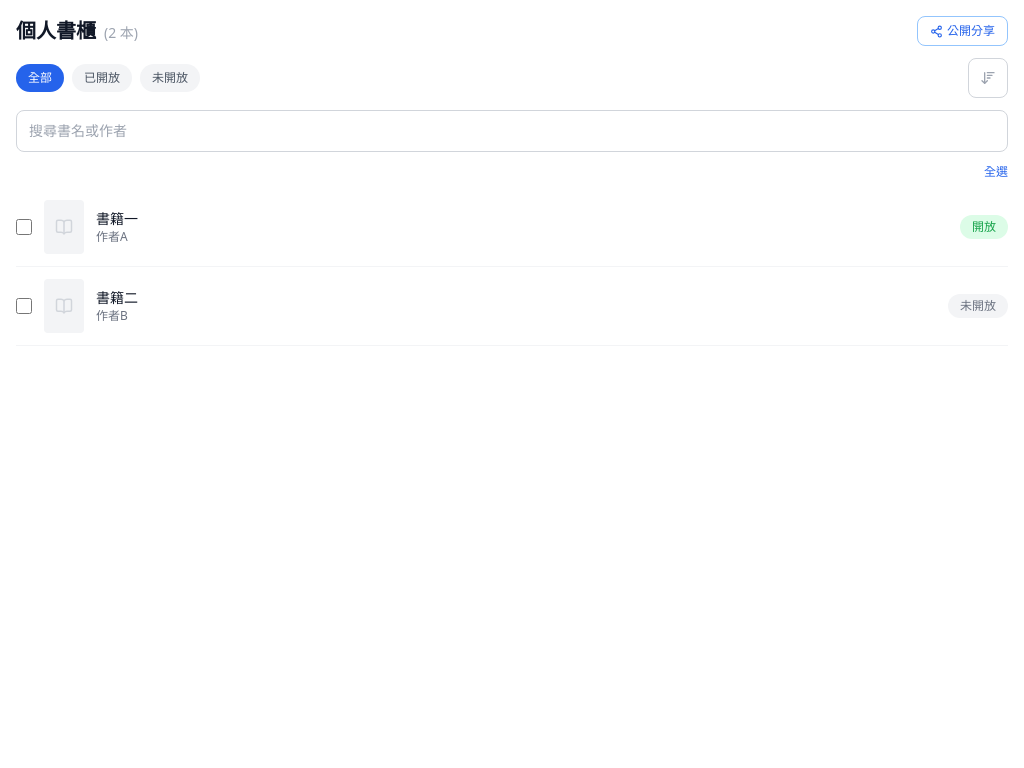
Test case: PersonalShelfPage › select all / deselect all toggles all visible books
The width and height of the screenshot is (1024, 768).
Expected: the text "書籍一" is shown, [96,209,138,229]
Click the button "全選" at (996, 172), box [984,164,1008,180]
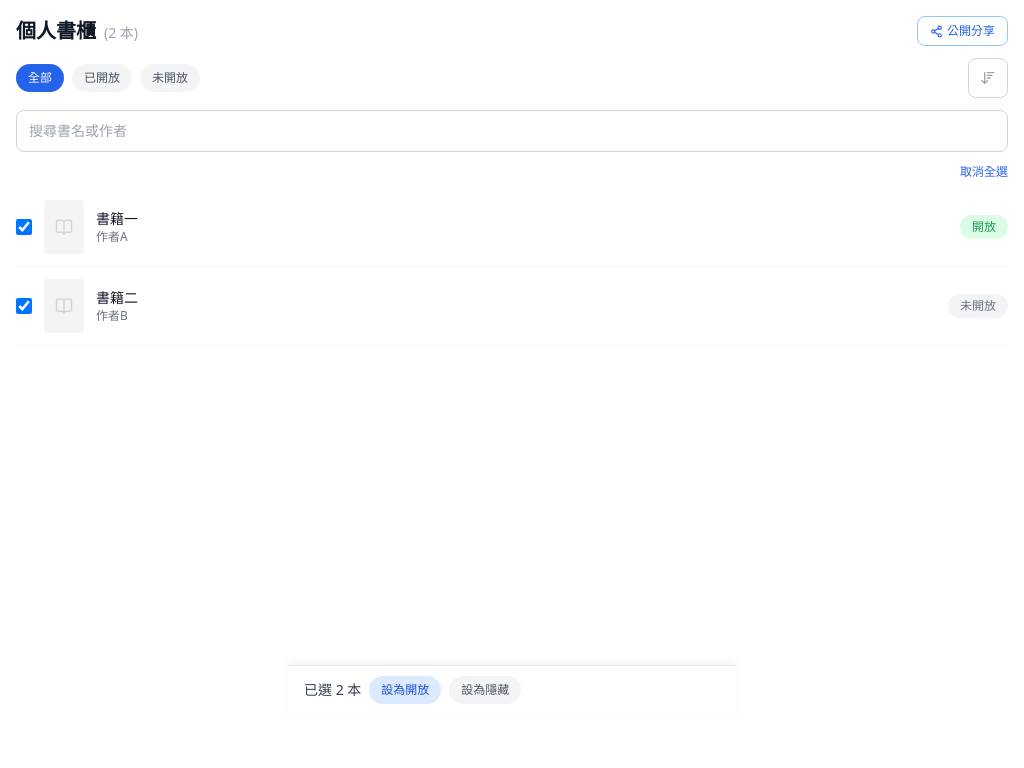
Result: the text "已選 2 本" is shown at [304,680,361,700]
Result: the button "取消全選" is shown
Click the button "取消全選" at (984, 172), box [960,164,1008,180]
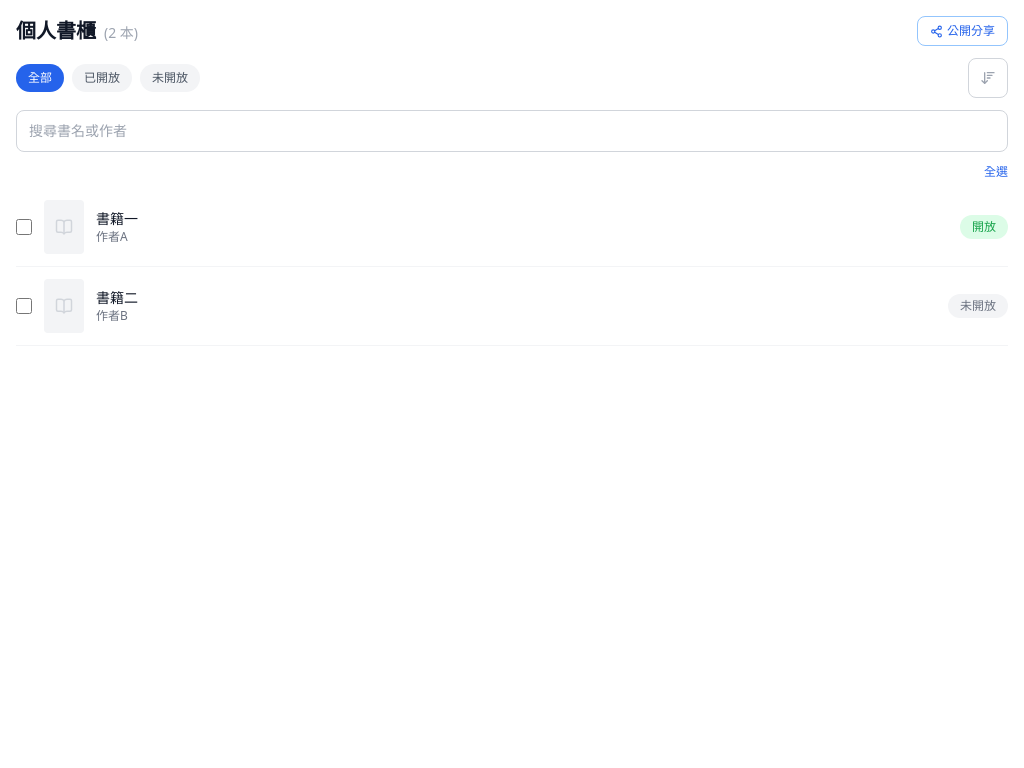
Expected: the button "全選" is shown, [984,164,1008,180]
Result: the text "已選" is gone
